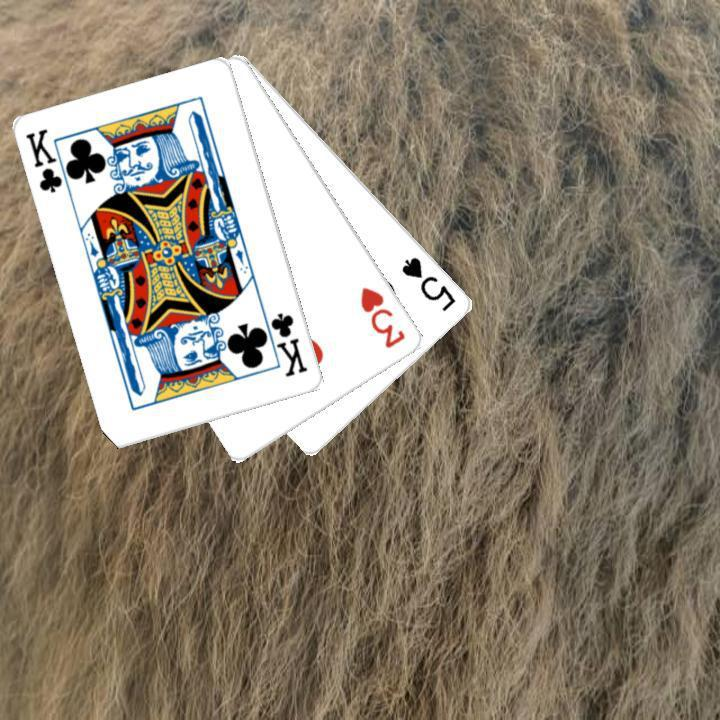3: (356, 282, 408, 351)
5: (398, 252, 458, 313)
K: (257, 306, 310, 379), (22, 125, 75, 198)
